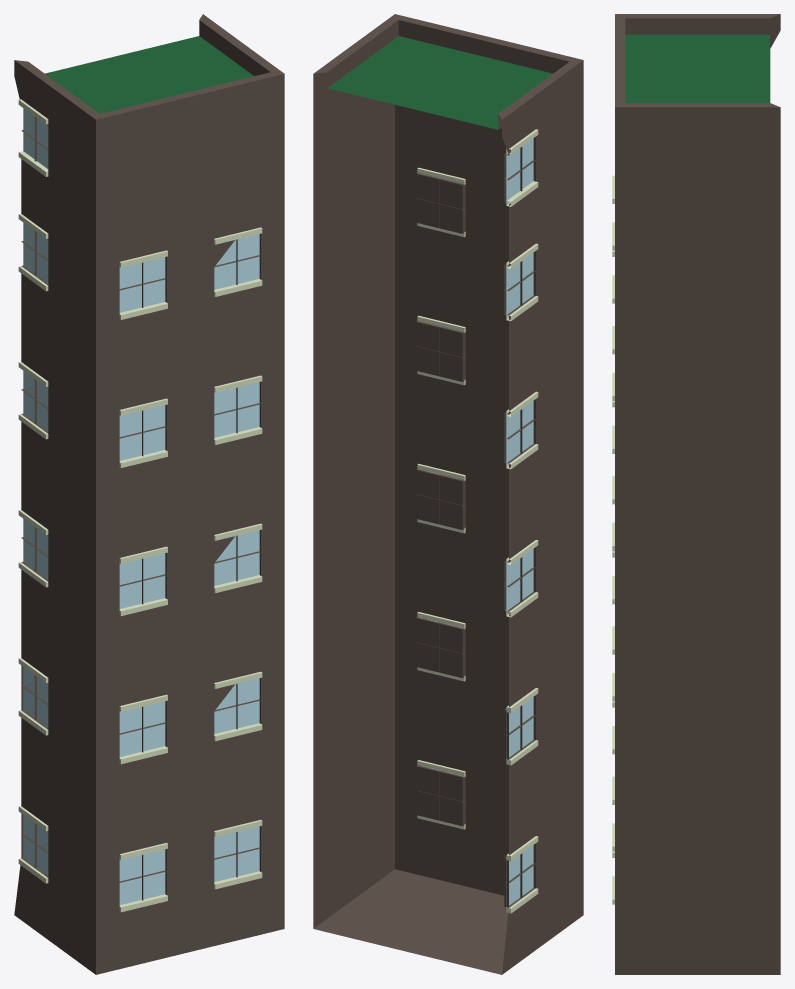
File: B5-Pipe_R.glb
The picture shows the model from 3 angles, left to right: view 1: azimuth 30°, elevation 25°; view 2: azimuth 150°, elevation 25°; view 3: azimuth 270°, elevation 25°; orthographic projection.
Visible parts, largest first — view 1: B5-Pipe_R; view 2: B5-Pipe_R; view 3: B5-Pipe_R.
Boxes of the visible parts, bbox=[...] form: B5-Pipe_R: bbox=[14, 14, 284, 974]; B5-Pipe_R: bbox=[313, 14, 583, 974]; B5-Pipe_R: bbox=[612, 14, 780, 974].
Size of the model in its own units: 40.5 by 173 by 30.5.
